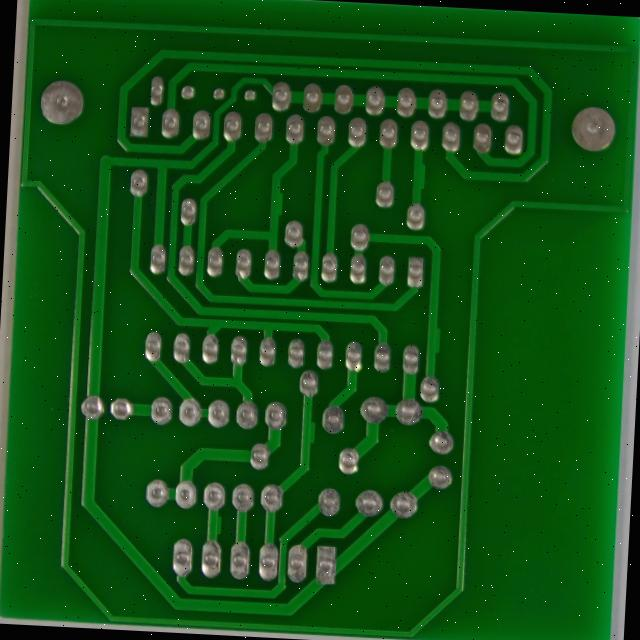spur: (464, 294, 493, 332), (324, 397, 350, 430), (451, 113, 474, 150), (292, 144, 316, 178), (225, 502, 248, 529)
